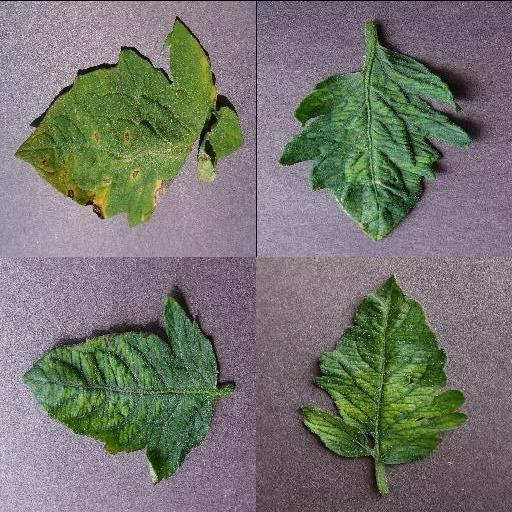Mosaic Virus: (278, 44, 472, 242), (22, 292, 218, 484), (296, 272, 470, 464)
Septoria: (13, 18, 213, 228)
